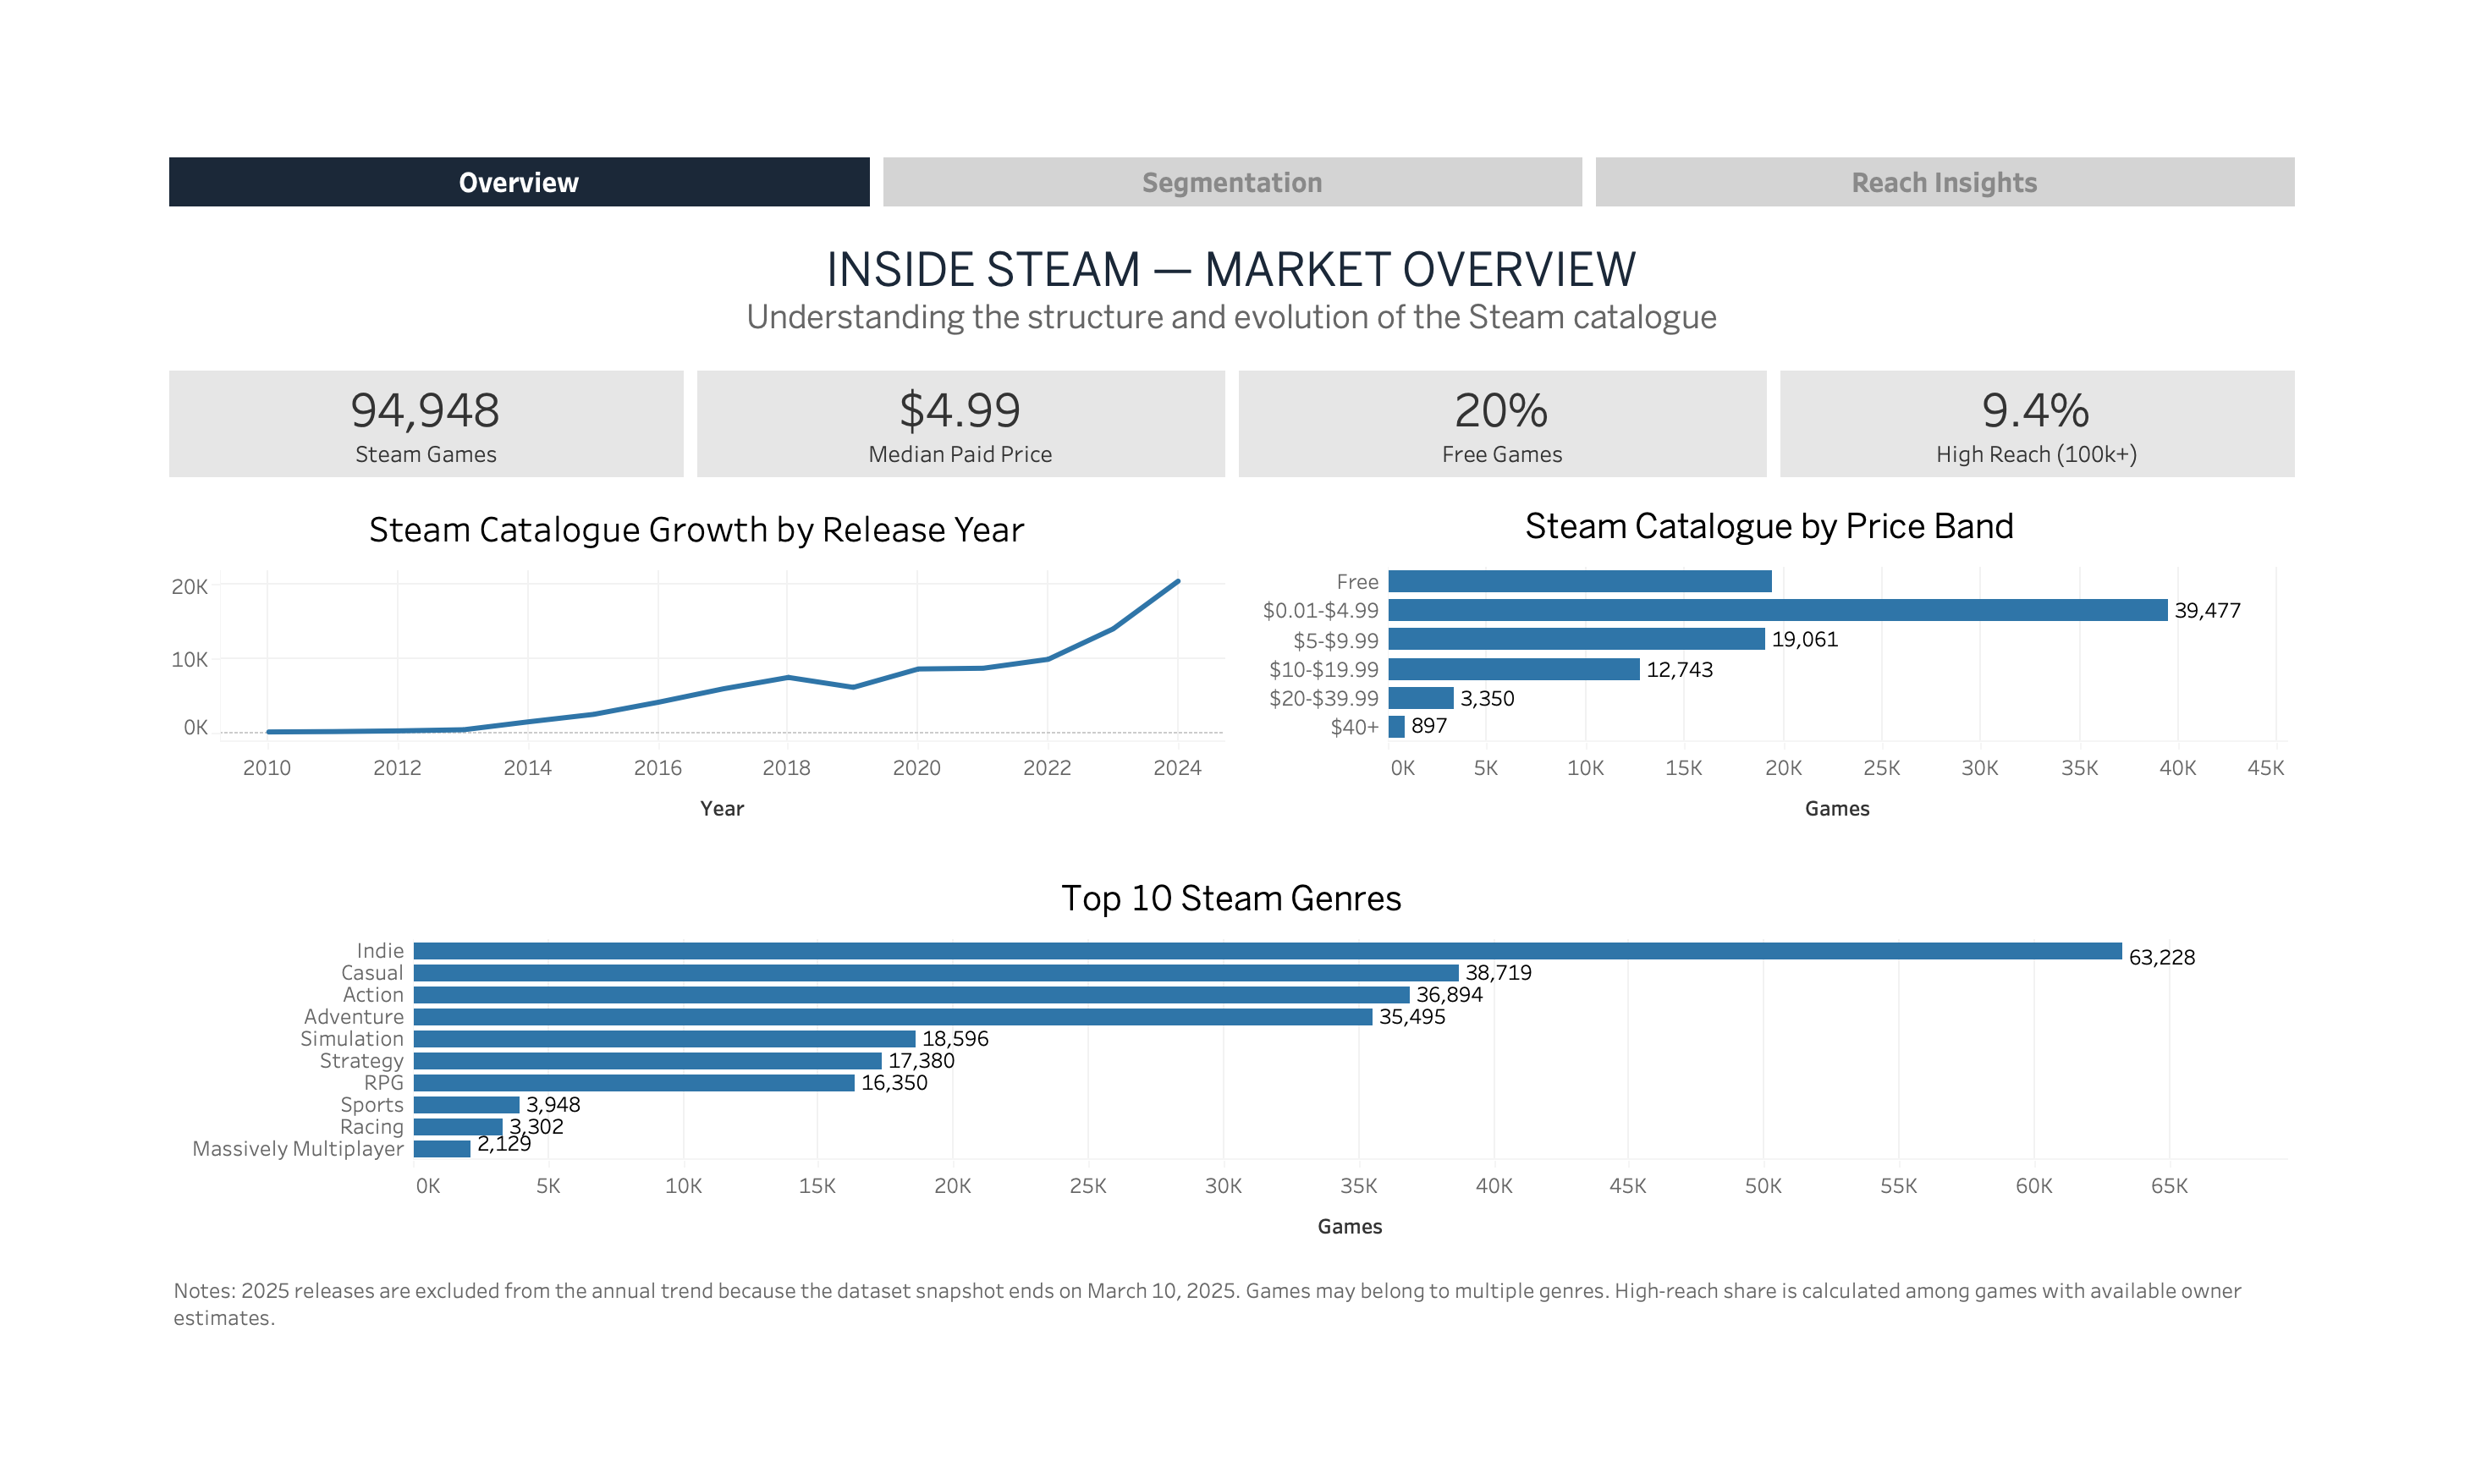

Layout of this report page (visuals, bound fields, positions):
{"tool":"tableau","page":{"name":"01 — Market Overview","canvas":[1280,720],"ordinal":0},"visuals":[{"type":"dashboard-object","box":[8,8,422,37]},{"type":"dashboard-object","box":[430,8,421,37]},{"type":"dashboard-object","box":[851,8,421,37]},{"type":"text","box":[8,45,1264,89]},{"type":"worksheet","title":"KPI — Total Games","mark":"Automatic","box":[8,134,312,71]},{"type":"worksheet","title":"KPI — Median Paid Price","mark":"Automatic","box":[320,134,320,71]},{"type":"worksheet","title":"KPI — Free Share","mark":"Automatic","box":[640,134,320,71]},{"type":"worksheet","title":"KPI — High Reach Share","mark":"Automatic","box":[960,134,312,71]},{"type":"worksheet","title":"Market — Genre Release Trend","mark":"Line","rows":["appid"],"cols":["release_year"],"box":[8,205,632,215]},{"type":"worksheet","title":"Market — Price Distribution","mark":"Automatic","rows":["price_band"],"cols":["appid"],"box":[640,205,632,215]},{"type":"worksheet","title":"Market — Top Genres","mark":"Bar","rows":["genre"],"cols":["appid"],"box":[8,420,1264,247]},{"type":"text","box":[8,667,1264,45]}]}

Visuals, with their boxes on the page's 1280x720 design canvas (x1, y1, x2, y2). These are canvas units, not pixel positions in the 2476x1484 screenshot, which may show the page scaled, cropped or inside an application window:
dashboard-object: BBox(8, 8, 430, 45)
dashboard-object: BBox(430, 8, 851, 45)
dashboard-object: BBox(851, 8, 1272, 45)
text: BBox(8, 45, 1272, 134)
"KPI — Total Games" worksheet: BBox(8, 134, 320, 205)
"KPI — Median Paid Price" worksheet: BBox(320, 134, 640, 205)
"KPI — Free Share" worksheet: BBox(640, 134, 960, 205)
"KPI — High Reach Share" worksheet: BBox(960, 134, 1272, 205)
"Market — Genre Release Trend" worksheet (Line marks): BBox(8, 205, 640, 420)
"Market — Price Distribution" worksheet: BBox(640, 205, 1272, 420)
"Market — Top Genres" worksheet (Bar marks): BBox(8, 420, 1272, 667)
text: BBox(8, 667, 1272, 712)
